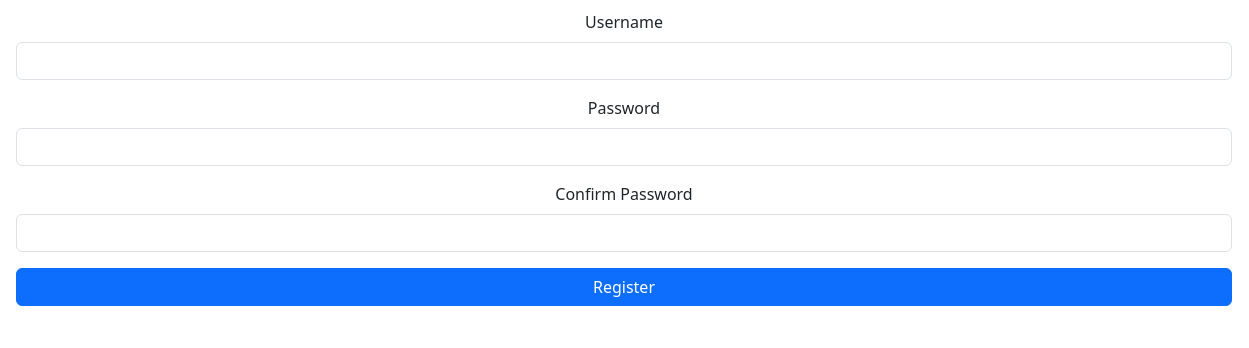
Test case: RegisterForm › shows validation error for password mismatch
This screenshot has width=1249, height=348.
Type "validuser" into the field labelled "Username" at point(624, 61), box [16, 42, 1232, 80]
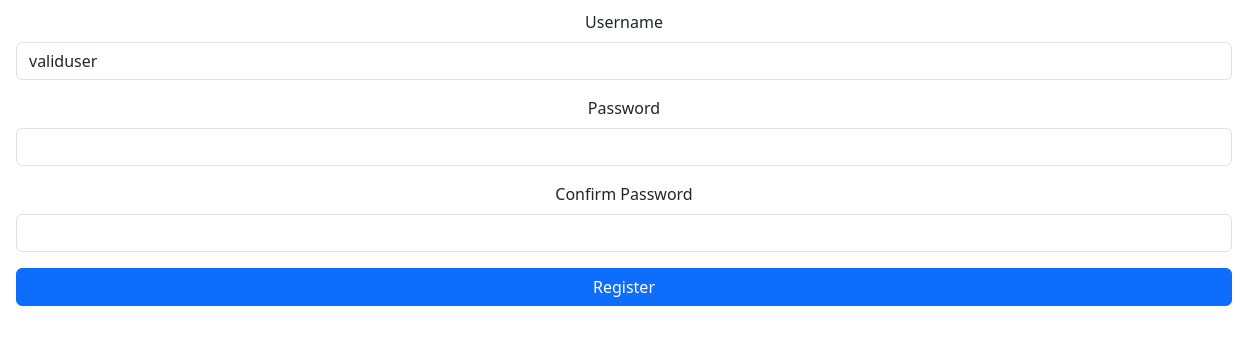
Type "password123" into the password field labelled "Password" at point(624, 147), box [16, 128, 1232, 166]
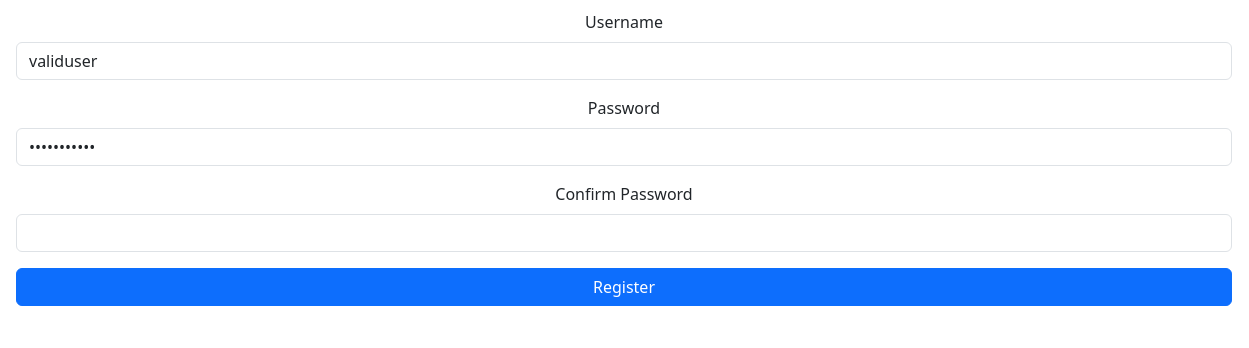
Type "password321" into the password field labelled "Confirm Password" at point(624, 233), box [16, 214, 1232, 252]
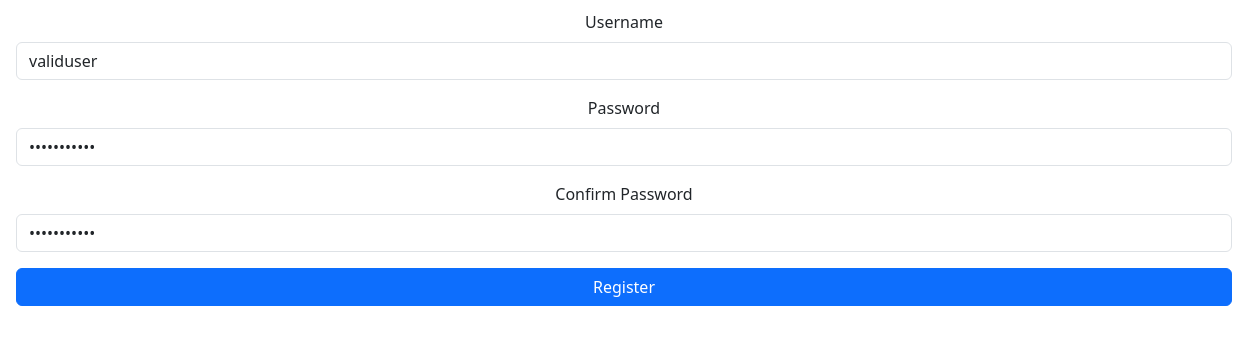
Click the button "Register" at point(624, 287), box [16, 268, 1232, 306]
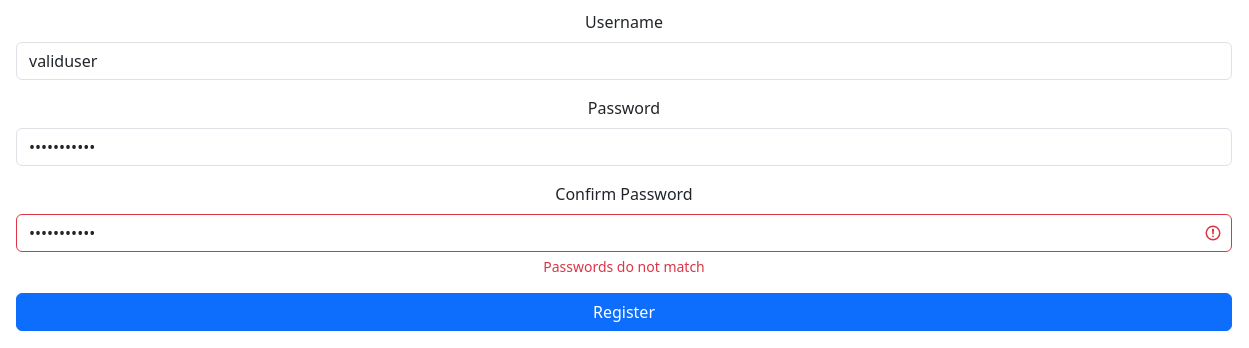
Expected: the text "Passwords do not match" is shown, [543, 257, 705, 276]
